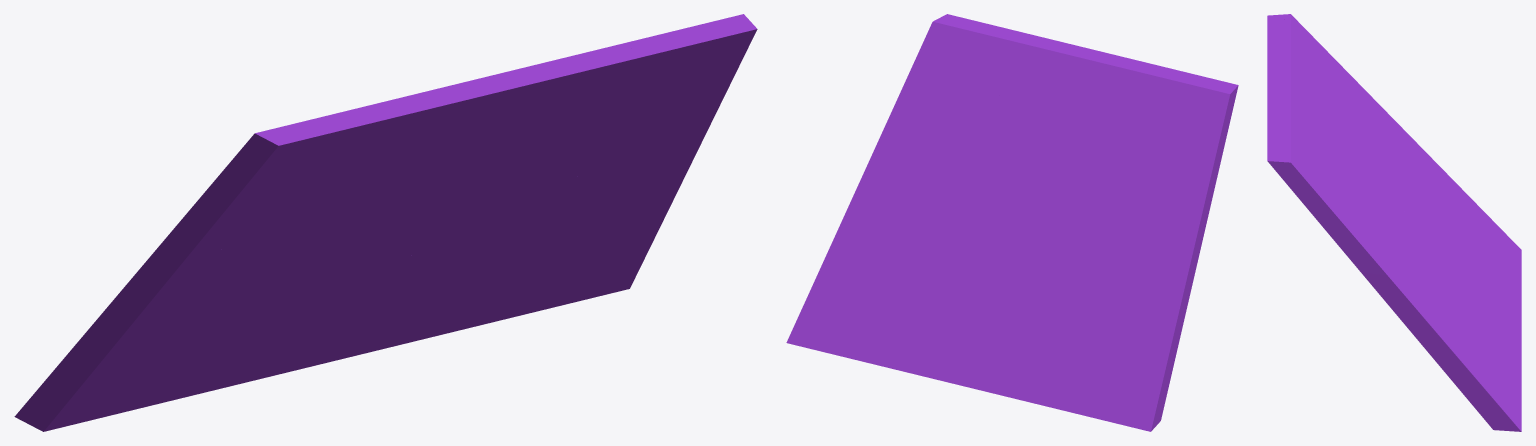
Rendered from Window_106_chunks.fbx.
3 renders of one model, left to right at view 1: azimuth 30°, elevation 25°; view 2: azimuth 150°, elevation 25°; view 3: azimuth 270°, elevation 25°, orthographic. The views are drawn at different scales.
Parts seen in each view (by area): view 1: Window_106_4, Window_106_1, Window_106_0, Window_106_11, Window_106_5, Window_106_18, Window_106_32, Window_106_29, Window_106_31, Window_106_10, Window_106_26, Window_106_33 (+17 smaller); view 2: Window_106_4, Window_106_0, Window_106_1, Window_106_9, Window_106_8, Window_106_2, Window_106_12, Window_106_18, Window_106_20, Window_106_25, Window_106_33, Window_106_19 (+16 smaller); view 3: Window_106_4, Window_106_0, Window_106_8, Window_106_1, Window_106_9, Window_106_12, Window_106_2, Window_106_33, Window_106_18, Window_106_29, Window_106_26, Window_106_20 (+15 smaller).
Part boxes in pixels (<box>): Window_106_4: <box>498,136,704,318</box>; Window_106_1: <box>203,126,396,264</box>; Window_106_0: <box>160,225,414,403</box>; Window_106_11: <box>14,323,195,431</box>; Window_106_5: <box>473,44,695,142</box>; Window_106_18: <box>248,292,420,381</box>; Window_106_32: <box>554,18,753,180</box>; Window_106_29: <box>397,58,562,133</box>; Window_106_31: <box>469,116,572,214</box>; Window_106_10: <box>170,249,284,329</box>; Window_106_26: <box>269,98,402,165</box>; Window_106_33: <box>548,20,757,116</box>; Window_106_4: <box>786,156,943,360</box>; Window_106_0: <box>1023,195,1116,416</box>; Window_106_1: <box>1051,88,1235,230</box>; Window_106_9: <box>950,107,1053,223</box>; Window_106_8: <box>871,19,961,160</box>; Window_106_2: <box>1111,159,1214,259</box>; Window_106_12: <box>1090,290,1156,425</box>; Window_106_18: <box>962,293,1024,400</box>; Window_106_20: <box>858,276,947,372</box>; Window_106_25: <box>1061,113,1171,170</box>; Window_106_33: <box>940,14,1049,93</box>; Window_106_19: <box>909,299,980,385</box>; Window_106_4: <box>1361,256,1521,431</box>; Window_106_0: <box>1384,165,1521,313</box>; Window_106_8: <box>1284,152,1388,275</box>; Window_106_1: <box>1277,14,1397,182</box>; Window_106_9: <box>1334,163,1406,237</box>; Window_106_12: <box>1431,177,1521,279</box>; Window_106_2: <box>1336,60,1415,176</box>; Window_106_33: <box>1267,115,1326,168</box>; Window_106_18: <box>1452,254,1521,343</box>; Window_106_29: <box>1267,53,1307,119</box>; Window_106_26: <box>1267,15,1317,78</box>; Window_106_20: <box>1455,304,1521,395</box>.
Bounding box in the file's own units: 1281 × 829 × 756.
